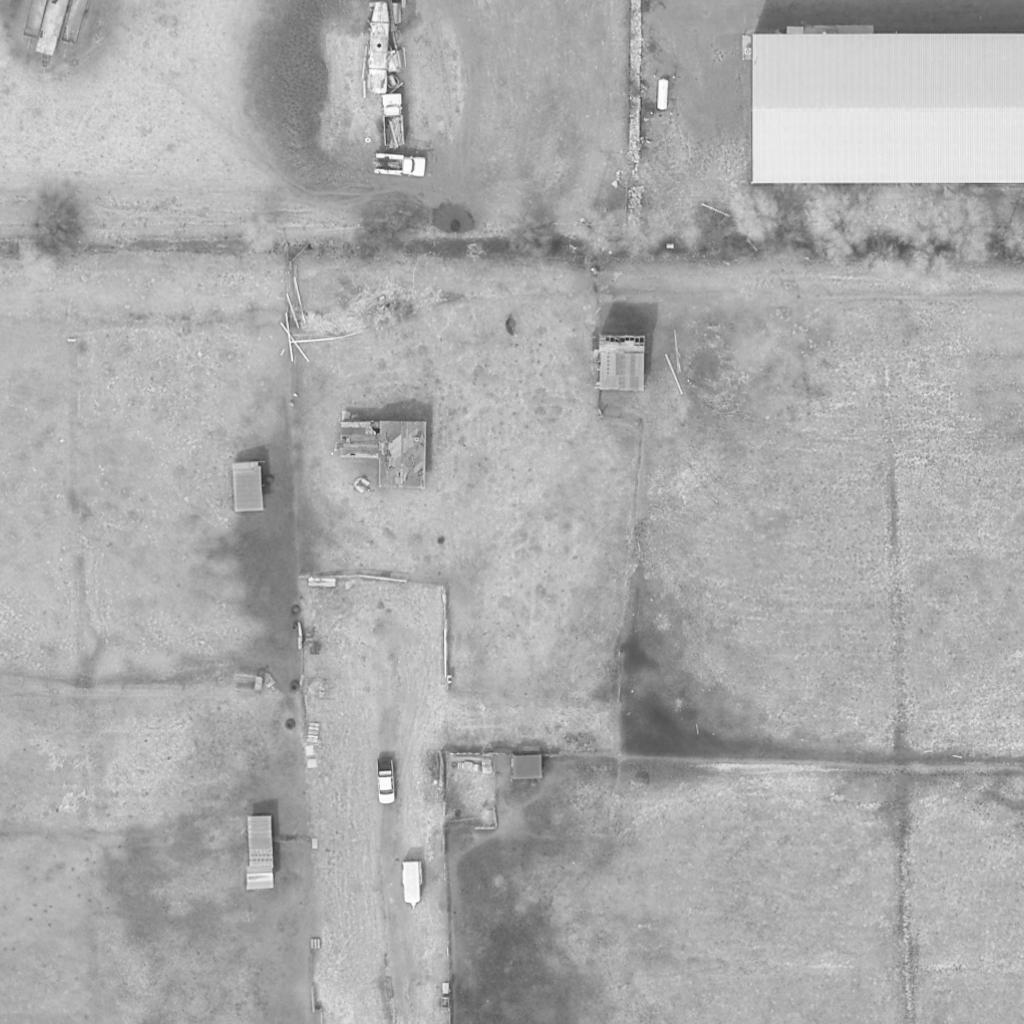vehicle: (383, 95, 409, 147), (375, 154, 425, 178), (376, 758, 396, 806), (403, 862, 421, 904)
